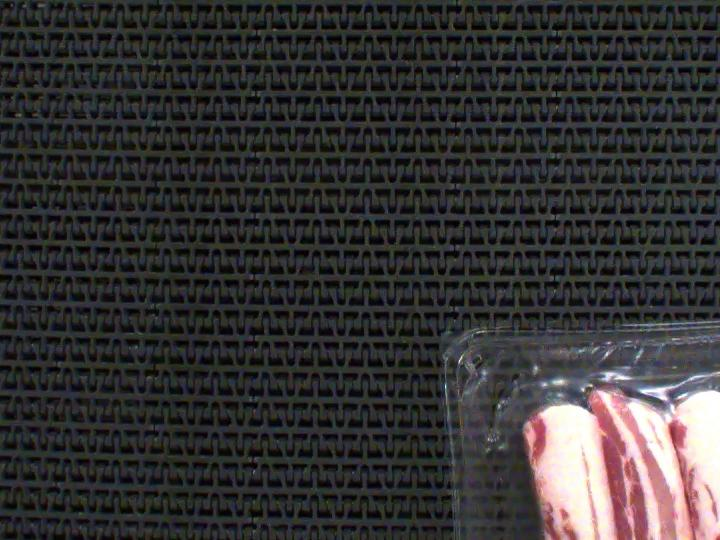unsealed: (440, 322, 720, 540)
